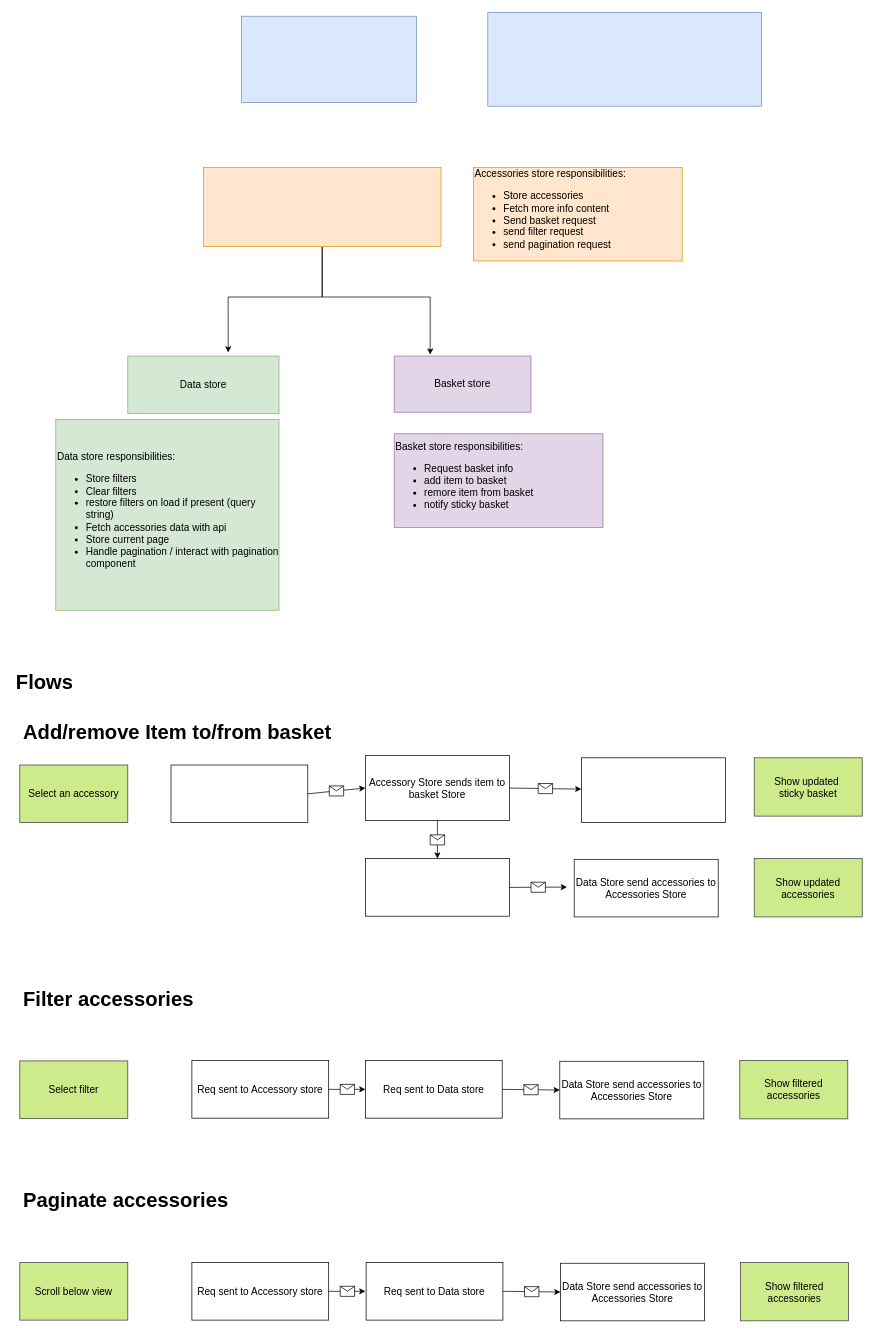
Image size: 875x1333. Some labels were removed from this diagram. Here are the shapes that lost their labels. From the top down, the box of each, then its label:
(241, 15, 417, 103): Accessories page store (or main store)
(487, 12, 761, 106): Main store responsibilities: initialise stores notify page when ready to load
(203, 167, 441, 247): Accessories store
(170, 764, 308, 823): Req add item to basket to Accessory store
(581, 757, 725, 823): Accessory Store notify Sticky basket
(365, 858, 509, 916): Accessory Store send accessories req to Data Store
